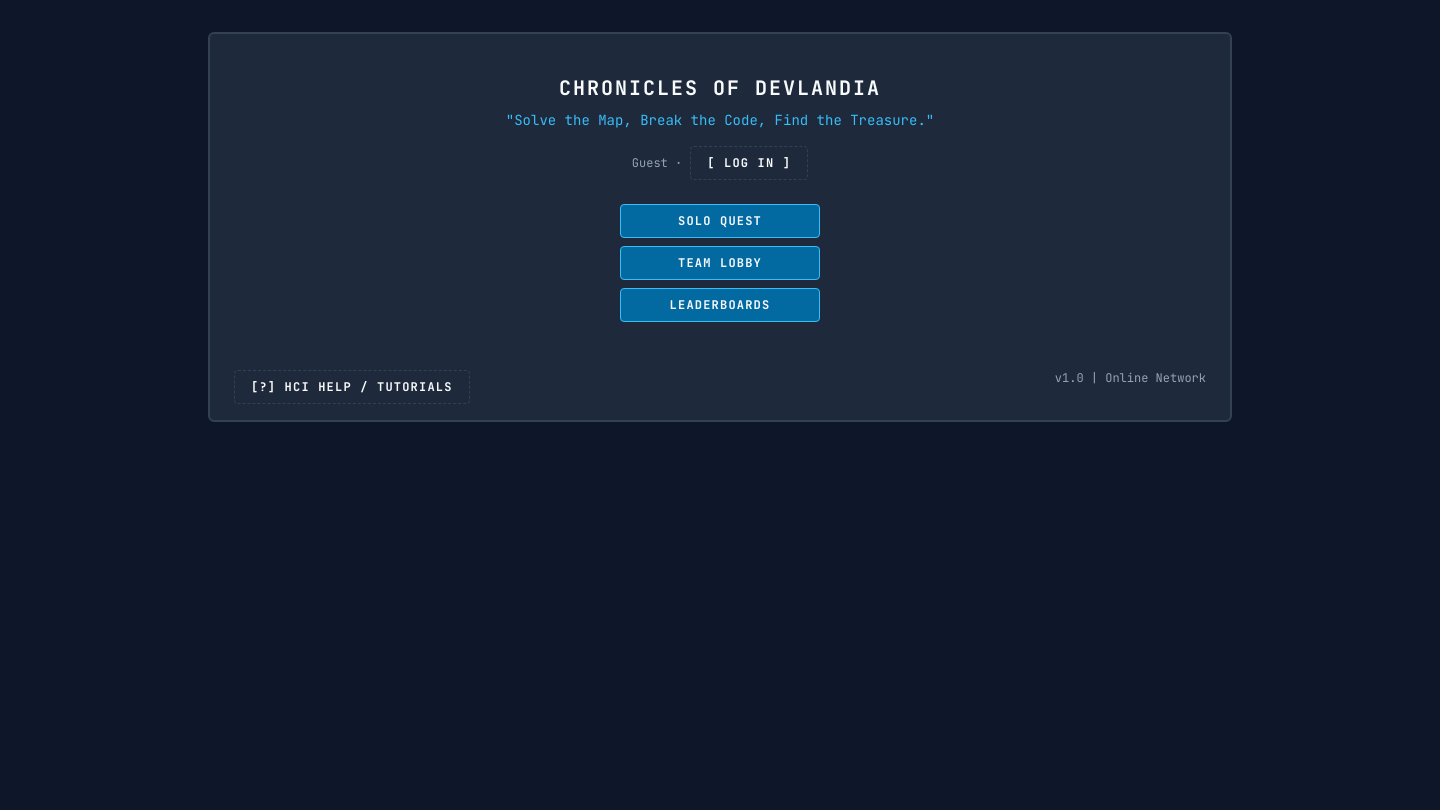
App: where a game begins › a new solo game starts inside the Ski Lodge, and walking out through the mat leads to the Peaks
Click the button "Solo Quest".
click(720, 221)  # box [620,204,820,238]
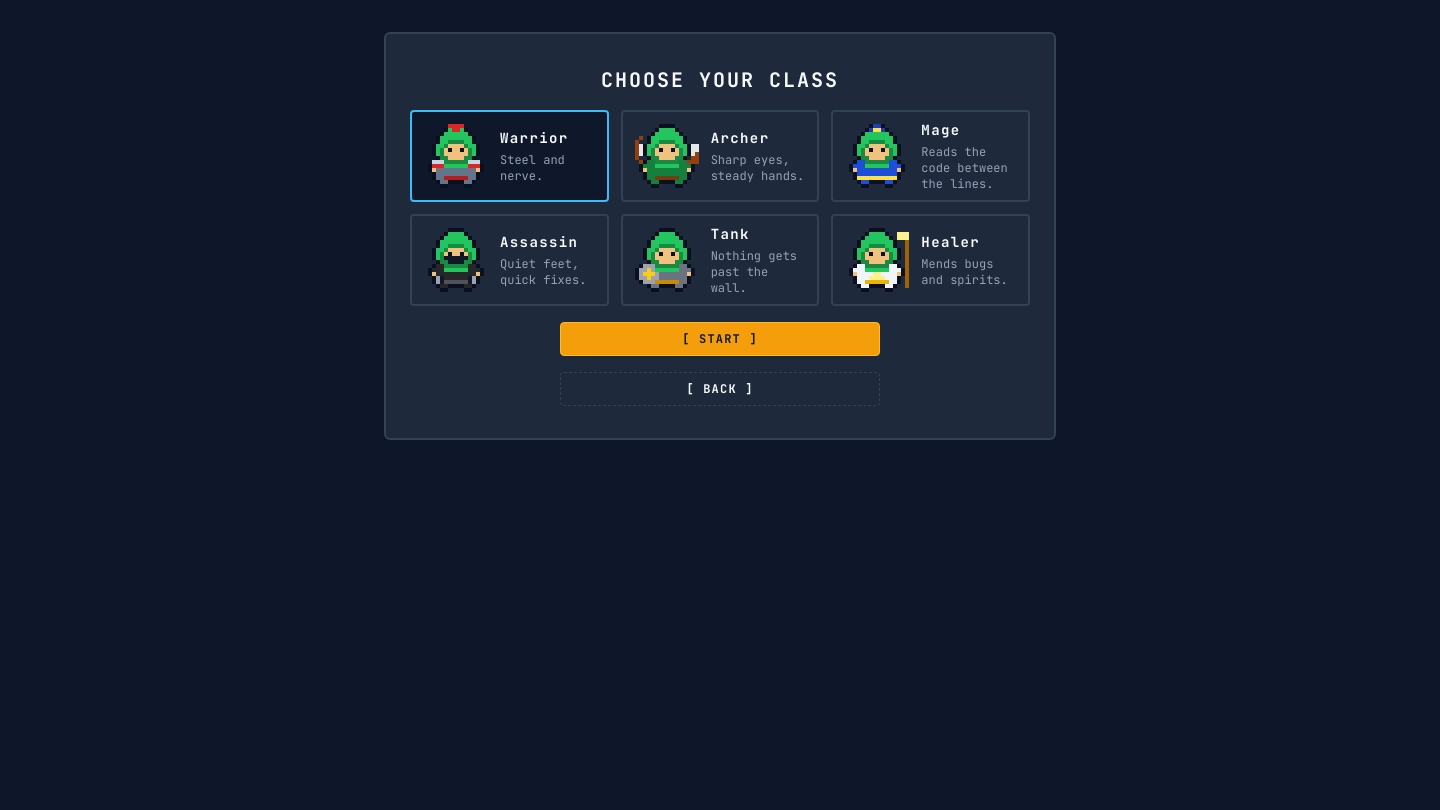
Click the button "[ Start ]".
click(720, 339)  # box [560,322,880,356]
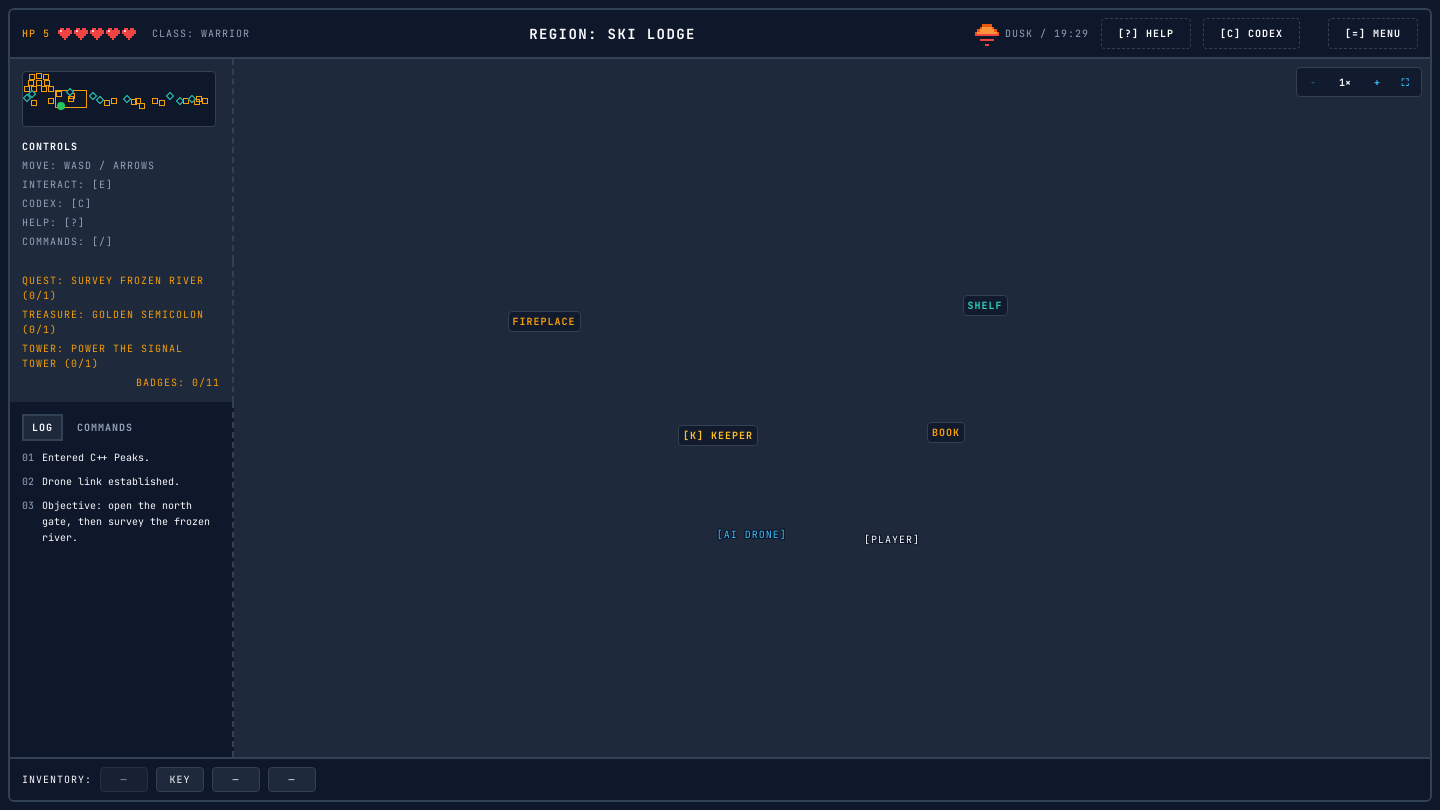
Check: the heading "REGION: SKI LODGE" is shown, box [529,24,696,44]
Press Arrowdown Arrowdown
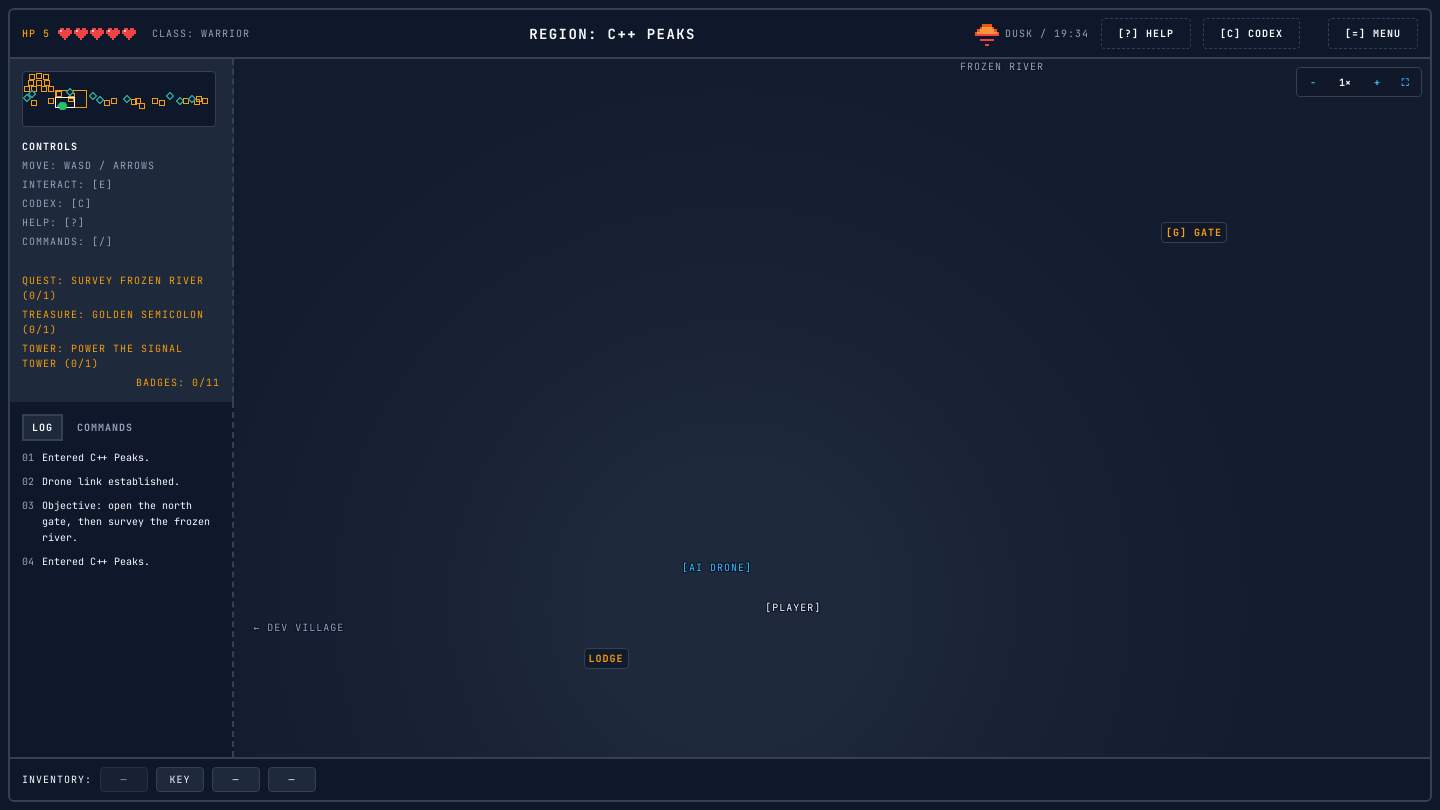
Check: the heading "REGION: C++ PEAKS" is shown, box [529,24,696,44]
